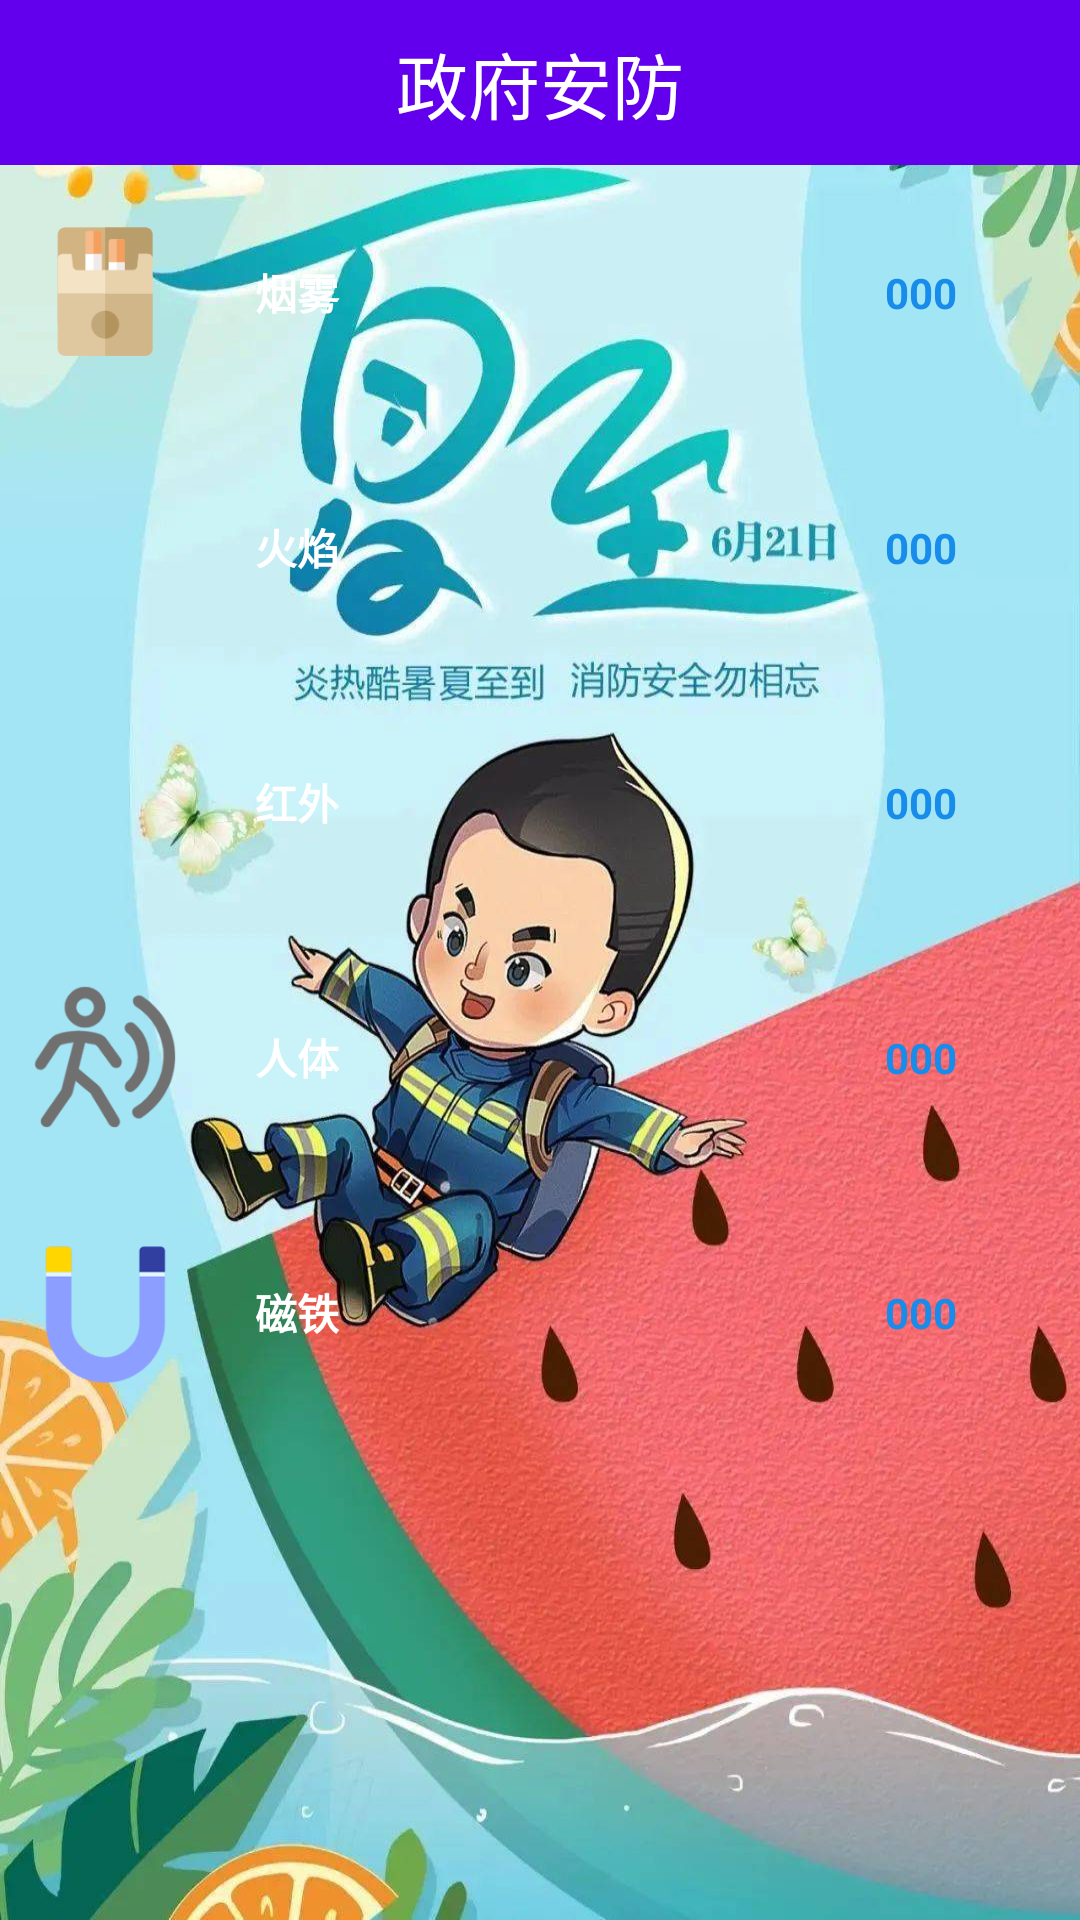

Named icons in this screenshot (1080*1920) and their centers, (x,y):
magnet: (105,1312)
people: (115,1057)
smoke: (126,292)
